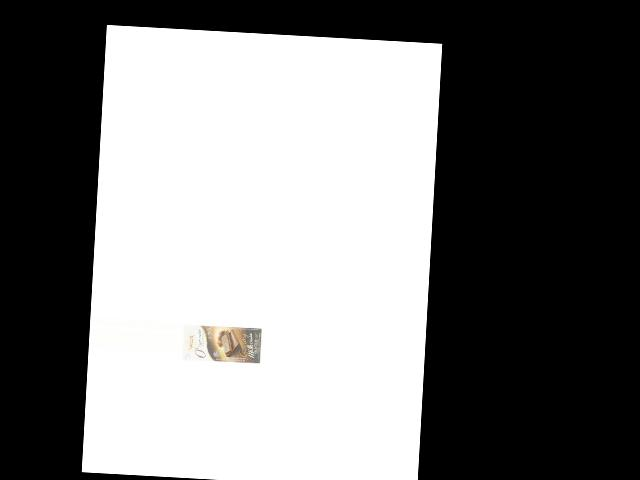chocolate: (182, 322, 262, 366)
